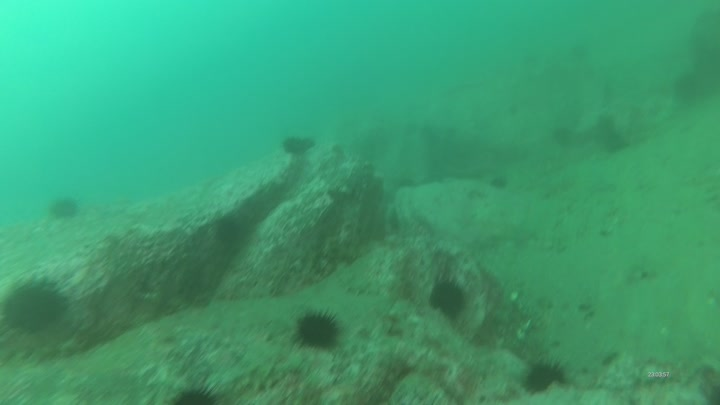echinus: (1, 275, 73, 336), (428, 273, 471, 326), (292, 307, 343, 351), (523, 358, 569, 397), (166, 382, 224, 405), (213, 216, 248, 249), (281, 136, 318, 157), (50, 198, 81, 222)
holothurian: (235, 358, 302, 394)
